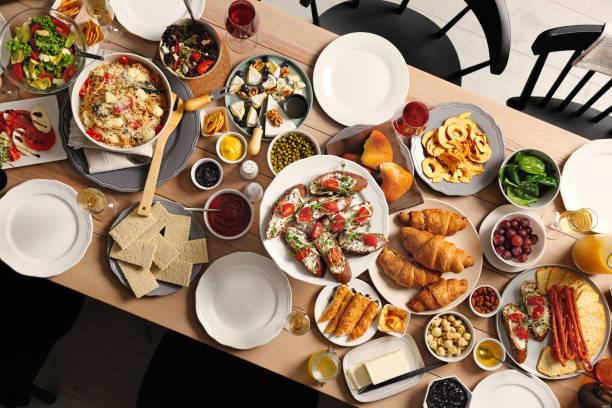Braised Crucian Carp: (259, 152, 382, 281), (496, 265, 611, 381), (366, 198, 481, 313), (69, 51, 171, 152), (104, 197, 207, 295), (411, 101, 507, 195), (0, 6, 87, 95), (223, 52, 308, 139), (0, 93, 66, 170), (312, 278, 383, 345), (158, 16, 225, 83)
